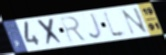4: (23, 20, 43, 49)
J: (88, 12, 105, 41)
L: (101, 9, 131, 40)
N: (120, 7, 150, 36)
R: (58, 15, 88, 44)
X: (35, 17, 66, 48)
